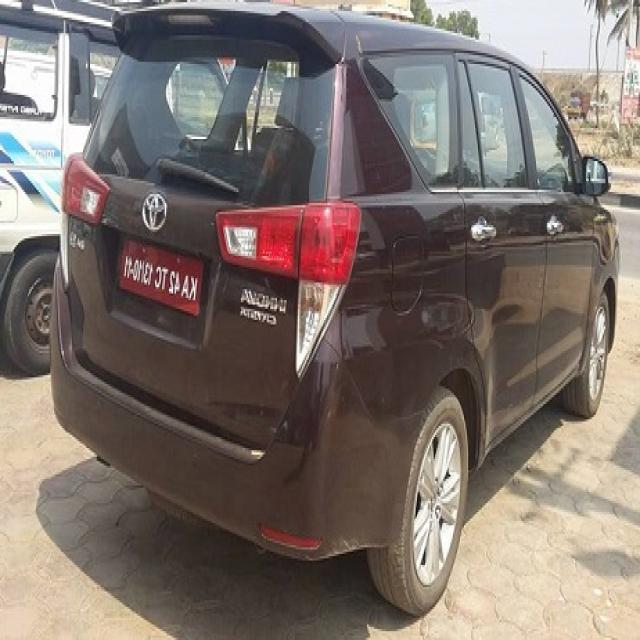number-plate: (112, 227, 217, 339)
